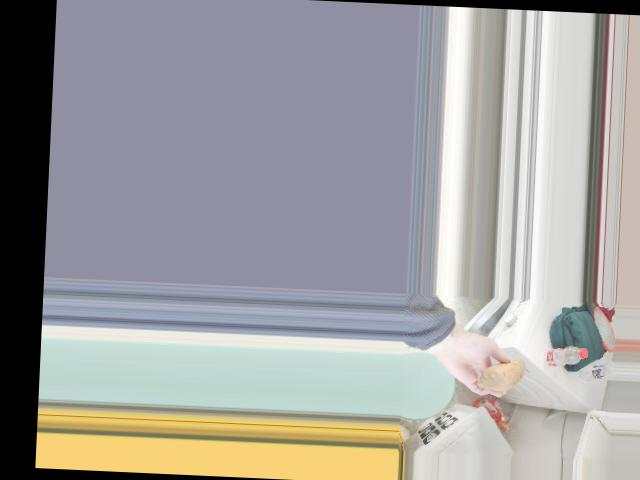sweet_potato: (483, 358, 525, 391)
